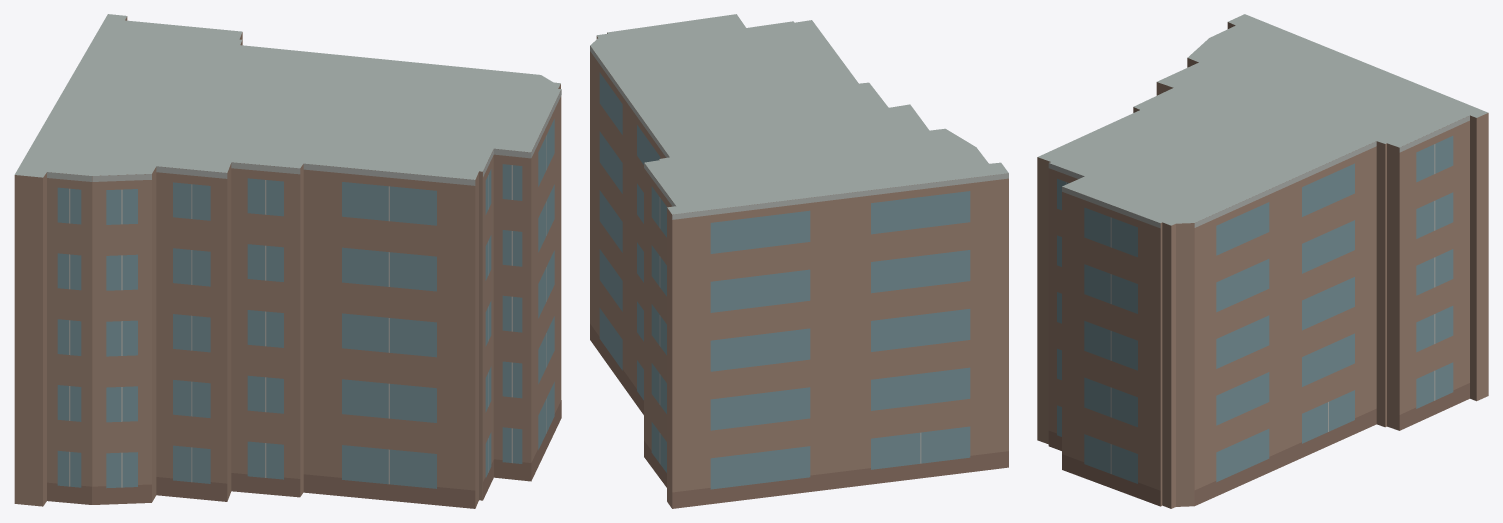
The model's file is survey-upis-32659670.glb.
3 renders of one model, left to right at view 1: azimuth 30°, elevation 25°; view 2: azimuth 150°, elevation 25°; view 3: azimuth 270°, elevation 25°, orthographic. The views are drawn at different scales.
Visible parts, largest first — view 1: survey-upis-32659670.tmp; view 2: survey-upis-32659670.tmp; view 3: survey-upis-32659670.tmp.
Boxes of the visible parts, box(x1,y1,x2,y2) form: survey-upis-32659670.tmp: box(14, 14, 561, 508); survey-upis-32659670.tmp: box(590, 14, 1008, 508); survey-upis-32659670.tmp: box(1037, 14, 1488, 508).
Bounding box in the file's own units: 21.48 × 13.4 × 19.35.
